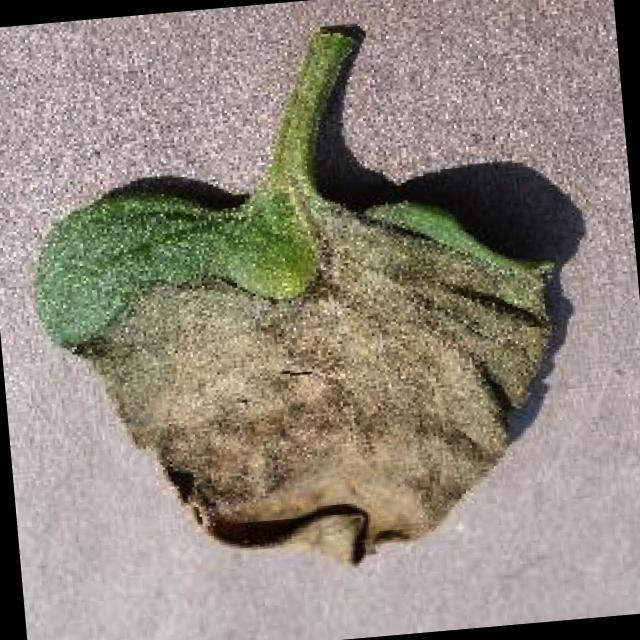Tomato late blight leaf: (24, 141, 582, 592)
